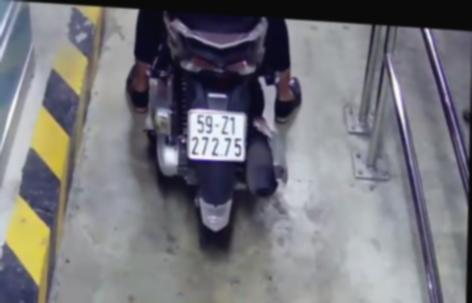License_Plate: (181, 103, 252, 166)
